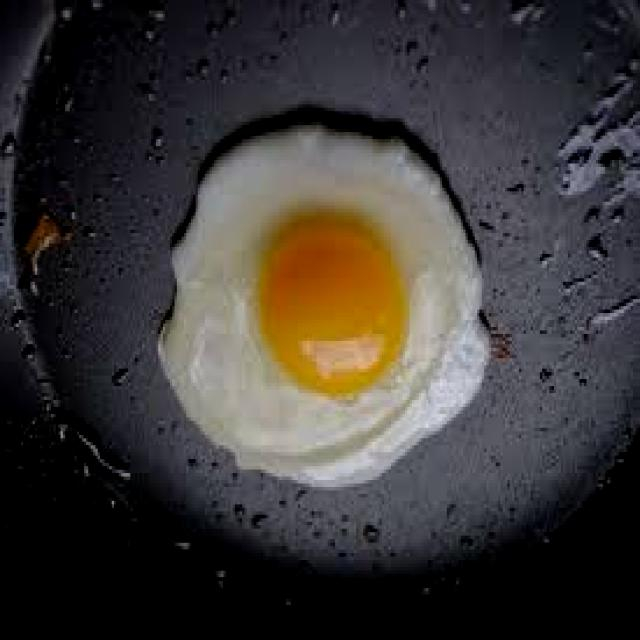telur ceplok: (156, 111, 493, 490)
